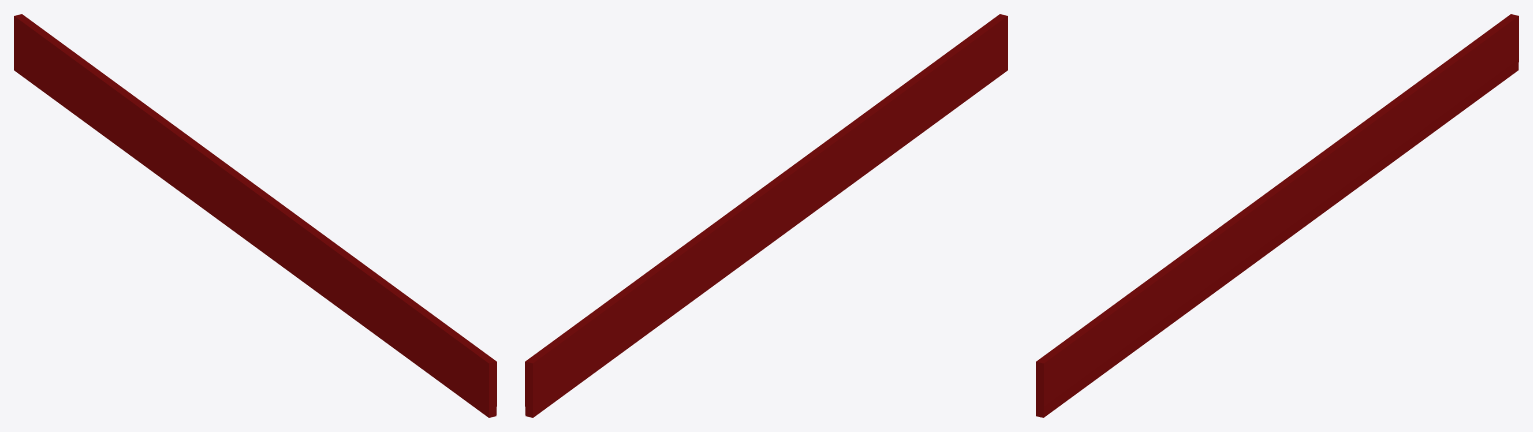
Rendered from ConferenceRoom26.gltf.
3 renders of one model, left to right at view 1: azimuth 30°, elevation 25°; view 2: azimuth 150°, elevation 25°; view 3: azimuth 330°, elevation 25°, orthographic.
Visible parts, largest first — view 1: 室内-电子显示屏（非）; view 2: 室内-电子显示屏（非）; view 3: 室内-电子显示屏（非）.
Part boxes in pixels (left/top/right/bottom): 室内-电子显示屏（非）: left=14, top=14, right=496, bottom=417; 室内-电子显示屏（非）: left=525, top=14, right=1007, bottom=417; 室内-电子显示屏（非）: left=1036, top=14, right=1518, bottom=417.
Bounding box in the file's own units: 0.152 × 1 × 15.8.
